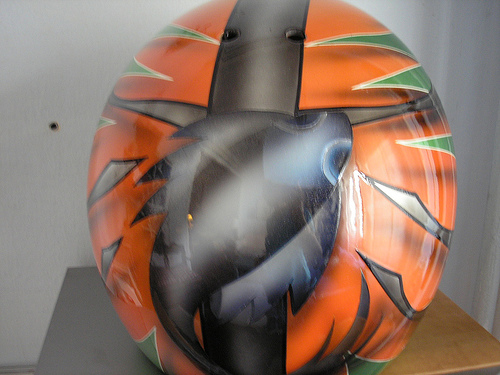helmet: (81, 1, 452, 372)
